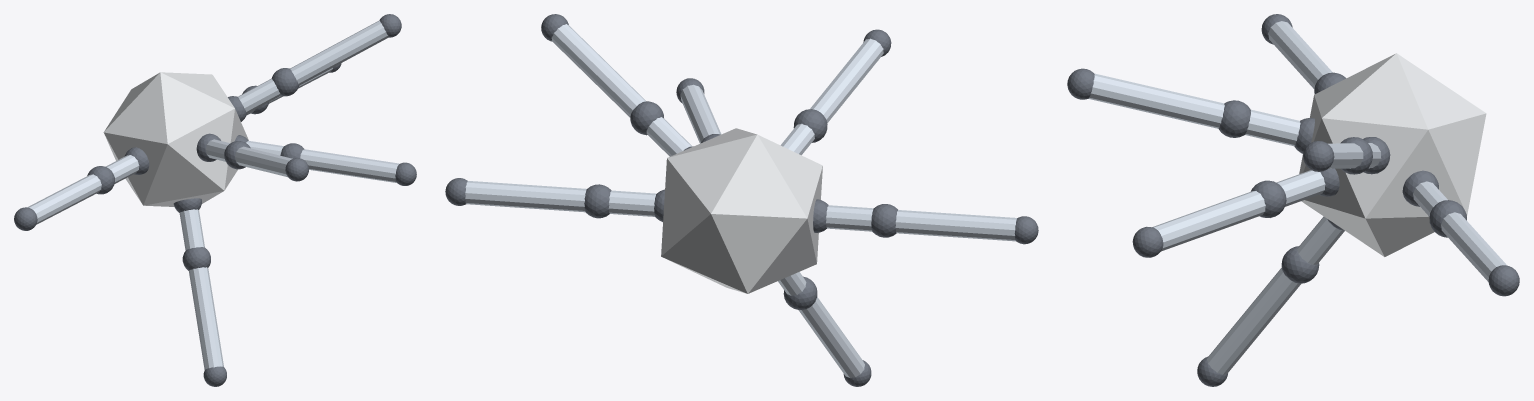
The model's file is g0_222222_1_abs.glb.
The picture shows the model from 3 angles, left to right: view 1: azimuth 30°, elevation 25°; view 2: azimuth 150°, elevation 25°; view 3: azimuth 270°, elevation 25°; orthographic projection. The views are drawn at different scales.
Parts seen in each view (by area): view 1: geom_0, geom_4, geom_24, geom_9, geom_19, geom_14, geom_2, geom_22, geom_17, geom_3, geom_23, geom_15 (+9 smaller); view 2: geom_0, geom_19, geom_29, geom_24, geom_14, geom_4, geom_9, geom_17, geom_27, geom_22, geom_28, geom_18 (+6 smaller); view 3: geom_0, geom_14, geom_4, geom_9, geom_29, geom_19, geom_12, geom_2, geom_7, geom_13, geom_3, geom_8 (+13 smaller).
Part boxes in pixels (bbox=[...]): geom_0: bbox=[103, 72, 248, 206]; geom_4: bbox=[189, 267, 223, 369]; geom_24: bbox=[290, 20, 388, 85]; geom_9: bbox=[300, 149, 399, 182]; geom_19: bbox=[27, 174, 101, 224]; geom_14: bbox=[235, 146, 292, 177]; geom_2: bbox=[179, 209, 204, 250]; geom_22: bbox=[238, 78, 280, 113]; geom_17: bbox=[105, 155, 139, 183]; geom_3: bbox=[182, 247, 210, 270]; geom_23: bbox=[271, 68, 298, 96]; geom_15: bbox=[285, 158, 308, 181]; geom_0: bbox=[661, 128, 822, 293]; geom_19: bbox=[895, 210, 1017, 241]; geom_29: bbox=[465, 181, 586, 212]; geom_24: bbox=[551, 24, 645, 117]; geom_14: bbox=[810, 38, 883, 122]; geom_4: bbox=[798, 297, 864, 378]; geom_9: bbox=[680, 84, 721, 143]; geom_17: bbox=[826, 205, 873, 231]; geom_27: bbox=[608, 190, 656, 216]; geom_22: bbox=[646, 117, 692, 156]; geom_28: bbox=[584, 184, 611, 218]; geom_18: bbox=[871, 204, 897, 237]; geom_0: bbox=[1299, 53, 1486, 256]; geom_14: bbox=[1088, 73, 1224, 128]; geom_4: bbox=[1207, 267, 1300, 374]; geom_9: bbox=[1152, 191, 1265, 251]; geom_29: bbox=[1441, 212, 1506, 281]; geom_19: bbox=[1268, 21, 1332, 89]; geom_12: bbox=[1245, 109, 1300, 146]; geom_2: bbox=[1297, 216, 1344, 264]; geom_7: bbox=[1276, 170, 1325, 206]; geom_13: bbox=[1218, 100, 1250, 137]; geom_3: bbox=[1281, 246, 1319, 283]; geom_8: bbox=[1251, 180, 1286, 217].
Size of the model in its own units: 0.4789 by 0.3221 by 0.3464.
